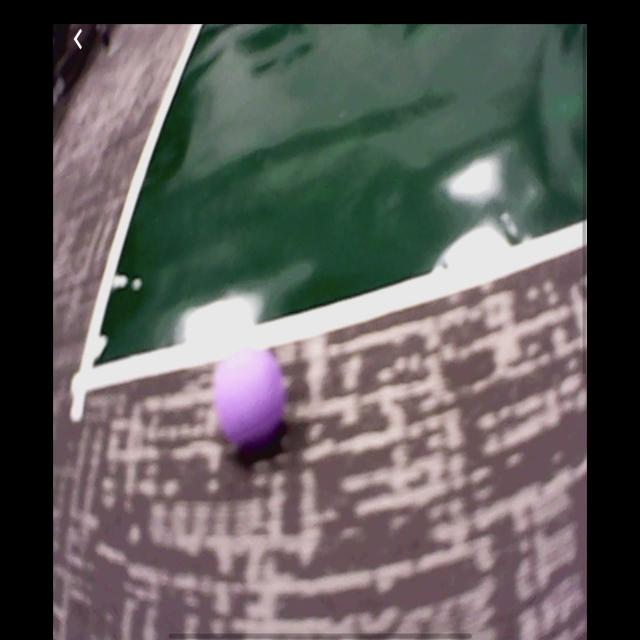ball: (212, 347, 288, 451)
